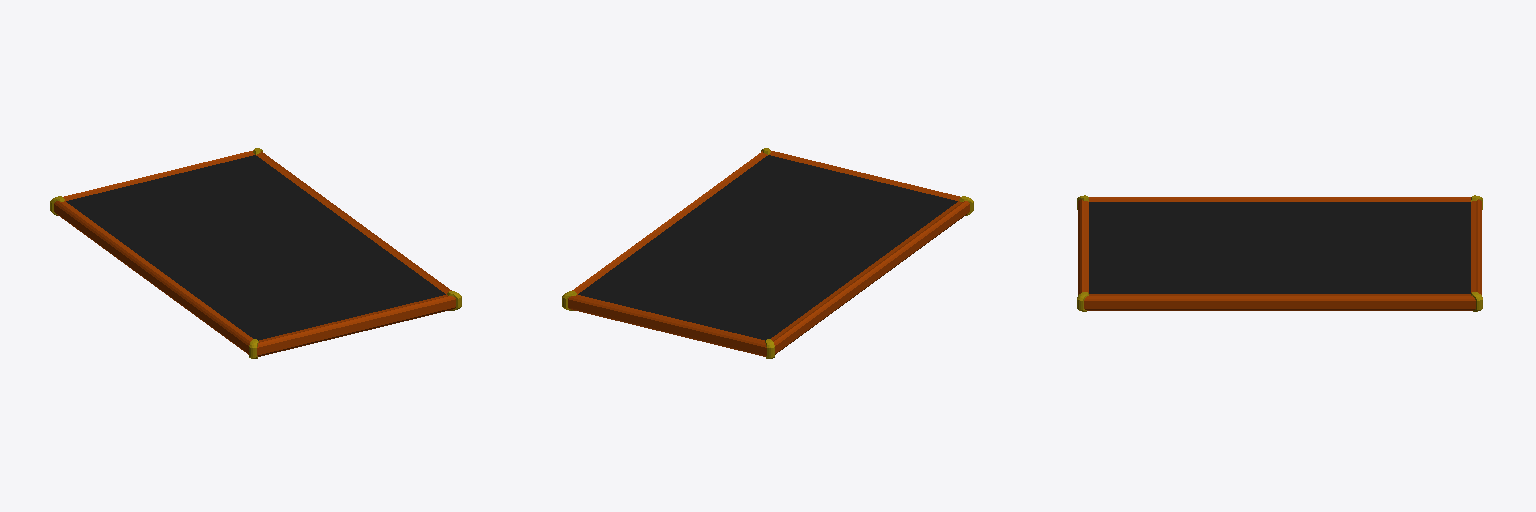
File: FloatingPlatform.obj
3 renders of one model, left to right at view 1: azimuth 30°, elevation 25°; view 2: azimuth 150°, elevation 25°; view 3: azimuth 270°, elevation 25°, orthographic.
Visible parts, largest first — view 1: Cube.001_Cube.001; view 2: Cube.001_Cube.001; view 3: Cube.001_Cube.001.
Part boxes in pixels (x1,y1,x2,y2): Cube.001_Cube.001: (50,148,461,358); Cube.001_Cube.001: (562,148,973,358); Cube.001_Cube.001: (1077,195,1482,311).
Size of the model in its own units: 2.02 by 0.2027 by 3.36.